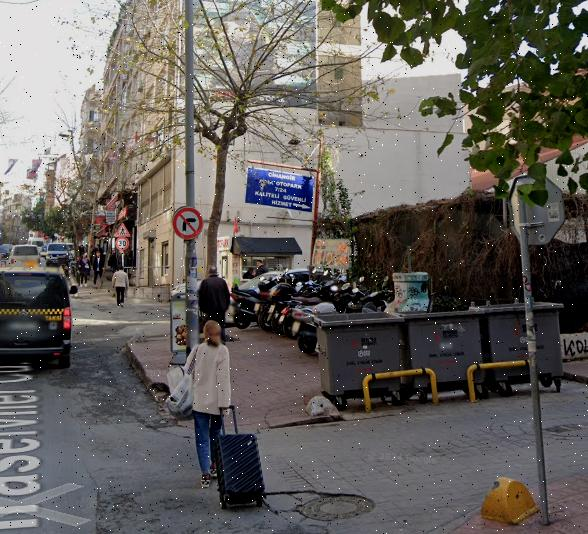rightturnsareforbidden: (174, 208, 203, 239)
